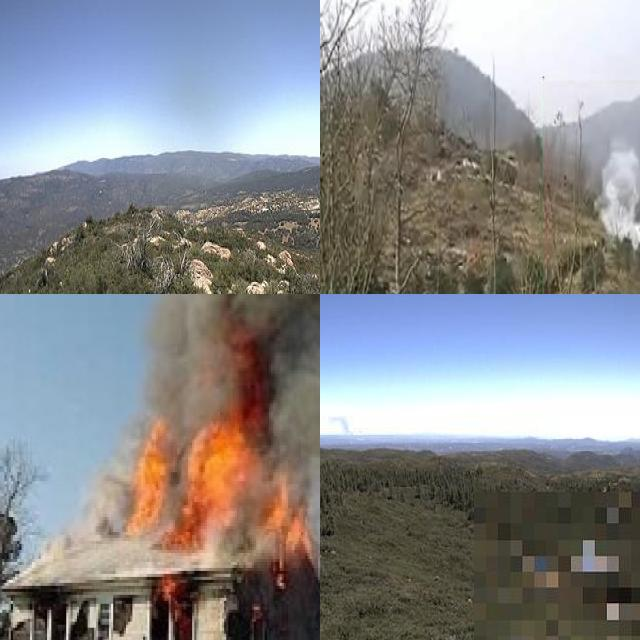fire: (98, 373, 316, 559)
smoke: (111, 294, 320, 464), (590, 138, 640, 256), (327, 412, 357, 438)
